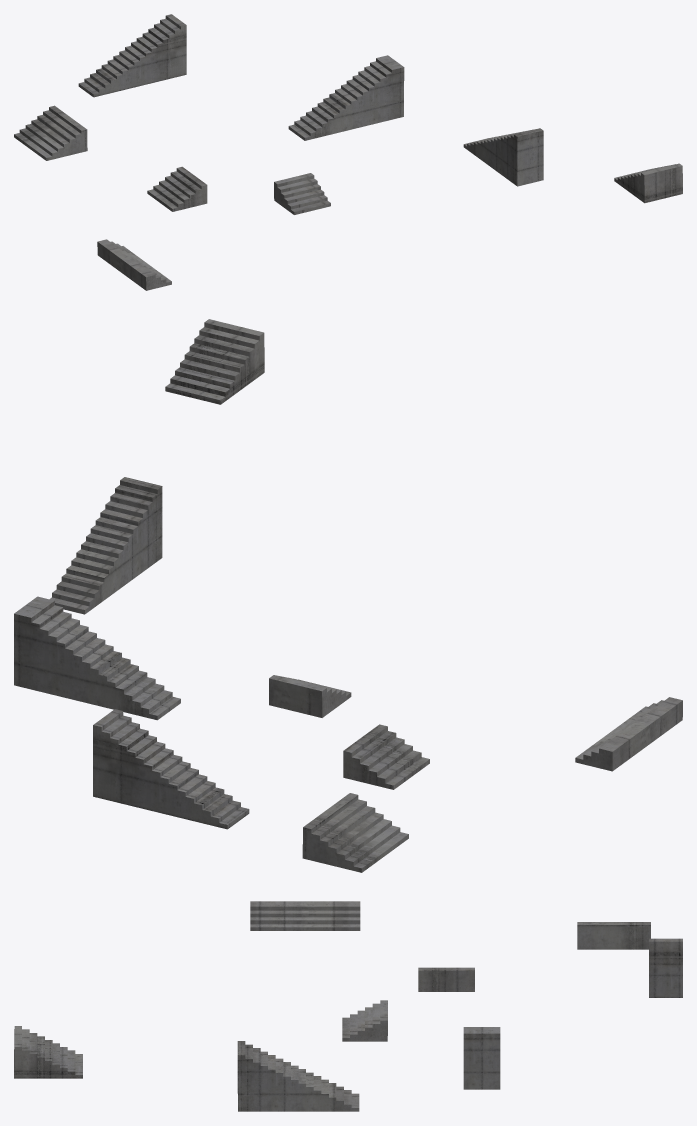
The model's file is SM_Chateaux_06_13.fbx.
The picture shows the model from 3 angles, top to bottom: view 1: azimuth 30°, elevation 25°; view 2: azimuth 150°, elevation 25°; view 3: azimuth 270°, elevation 25°; orthographic projection. The views are drawn at different scales.
Visible parts, largest first — view 1: SM_Chateaux_06_13; view 2: SM_Chateaux_06_13; view 3: SM_Chateaux_06_13.
Boxes of the visible parts, <box> form: SM_Chateaux_06_13: <box>14,14,682,290</box>; SM_Chateaux_06_13: <box>14,319,682,872</box>; SM_Chateaux_06_13: <box>14,901,682,1111</box>.
Bounding box in the file's own units: 3648 × 774 × 4324.
